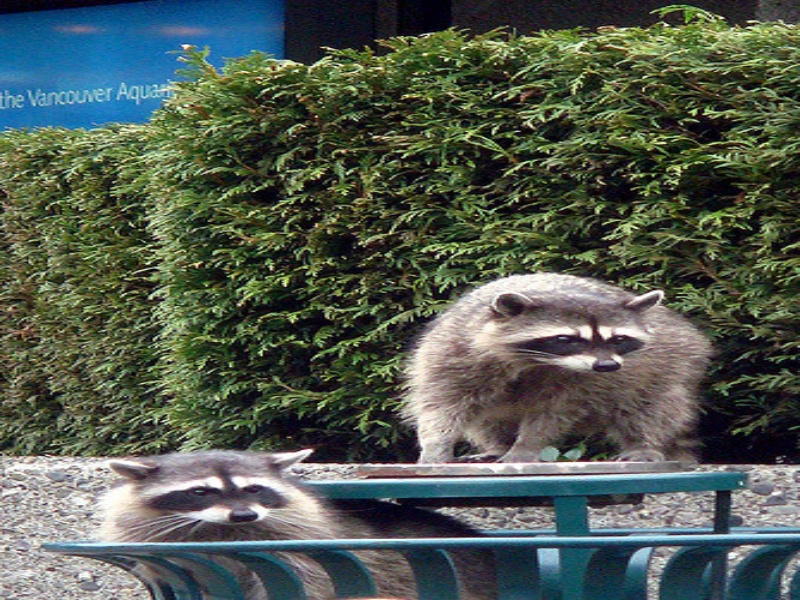raccoon: (389, 260, 717, 482), (79, 445, 517, 600)
